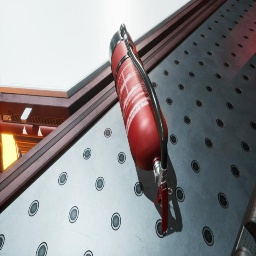FireExtinguisher ]: (109, 24, 172, 233)
